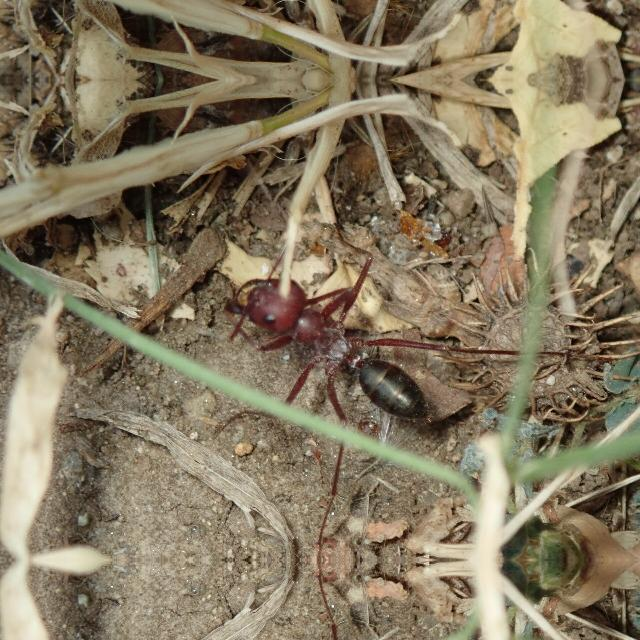Cataglyphis: (212, 247, 466, 437)
